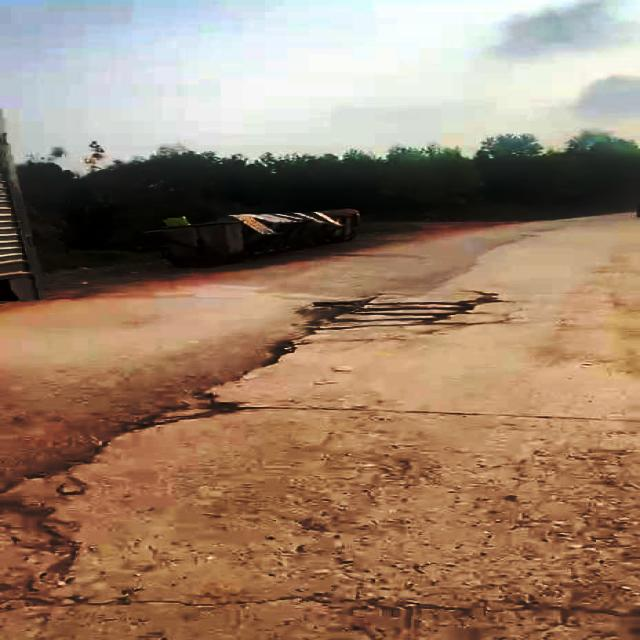pothole: (125, 385, 247, 430)
